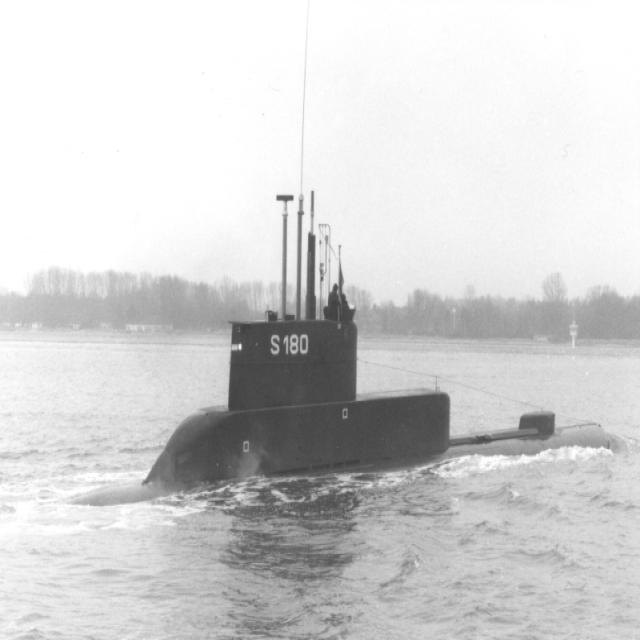submarine: (58, 315, 627, 508)
